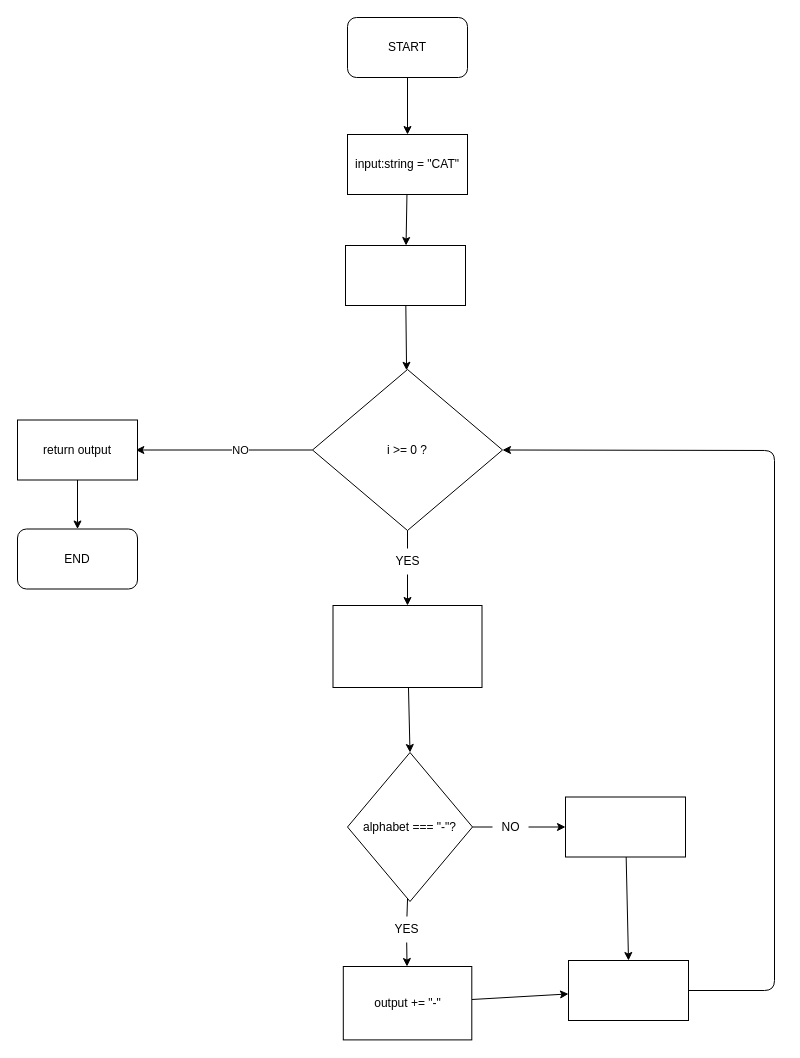
Image size: 800x1058. Some labels were removed from this diagram. The centre of each missing label's shape, as x and y in pixels:
alphabet = input[ i ]: (407,646)
i = i - 1: (628,990)
output += alphabet: (625,826)
output = "" i = input.length - 1: (405,275)
